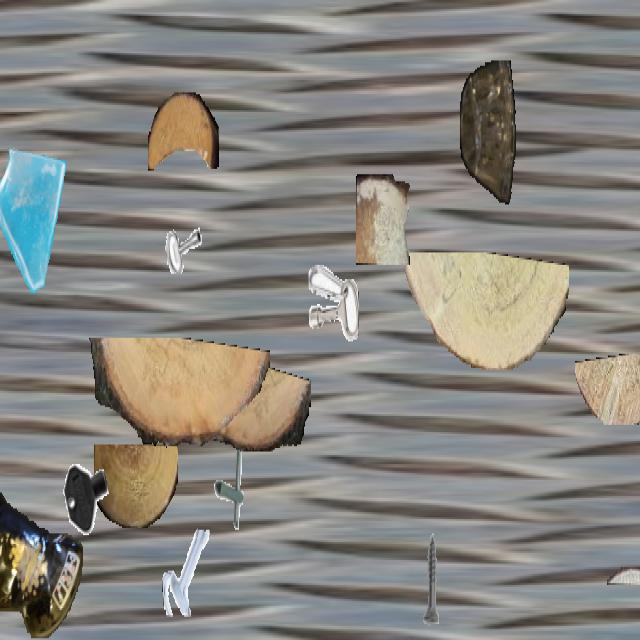glass: (0, 137, 79, 297)
metal: (404, 530, 458, 626), (152, 176, 206, 272), (206, 439, 258, 532), (61, 446, 113, 539), (308, 262, 358, 351), (162, 528, 212, 617)
plastic: (0, 439, 82, 638), (460, 60, 516, 206)
wood: (86, 338, 270, 448), (398, 252, 568, 370), (166, 359, 310, 452), (94, 444, 178, 526), (148, 92, 218, 170), (356, 174, 410, 263), (575, 354, 640, 425), (607, 567, 640, 585)
